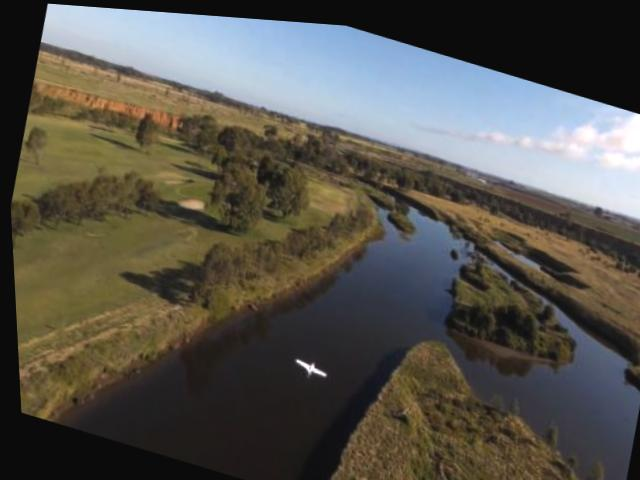uav: (287, 348, 327, 382)
